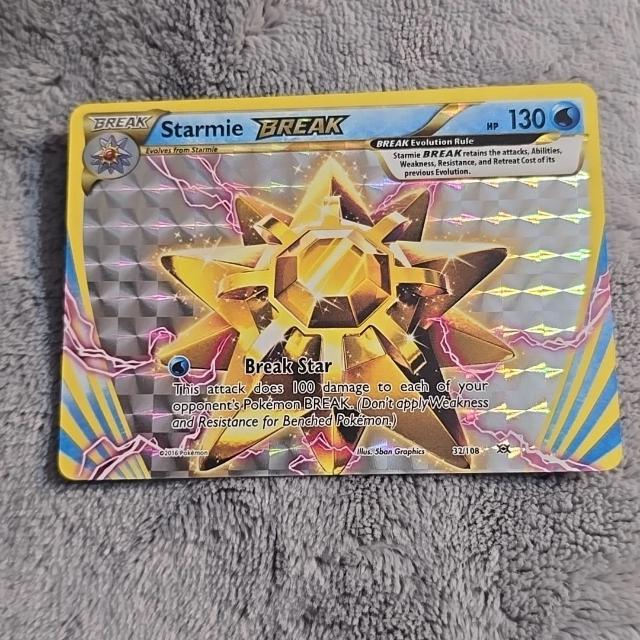Card: (53, 78, 628, 486)
Name: (159, 109, 353, 145)
